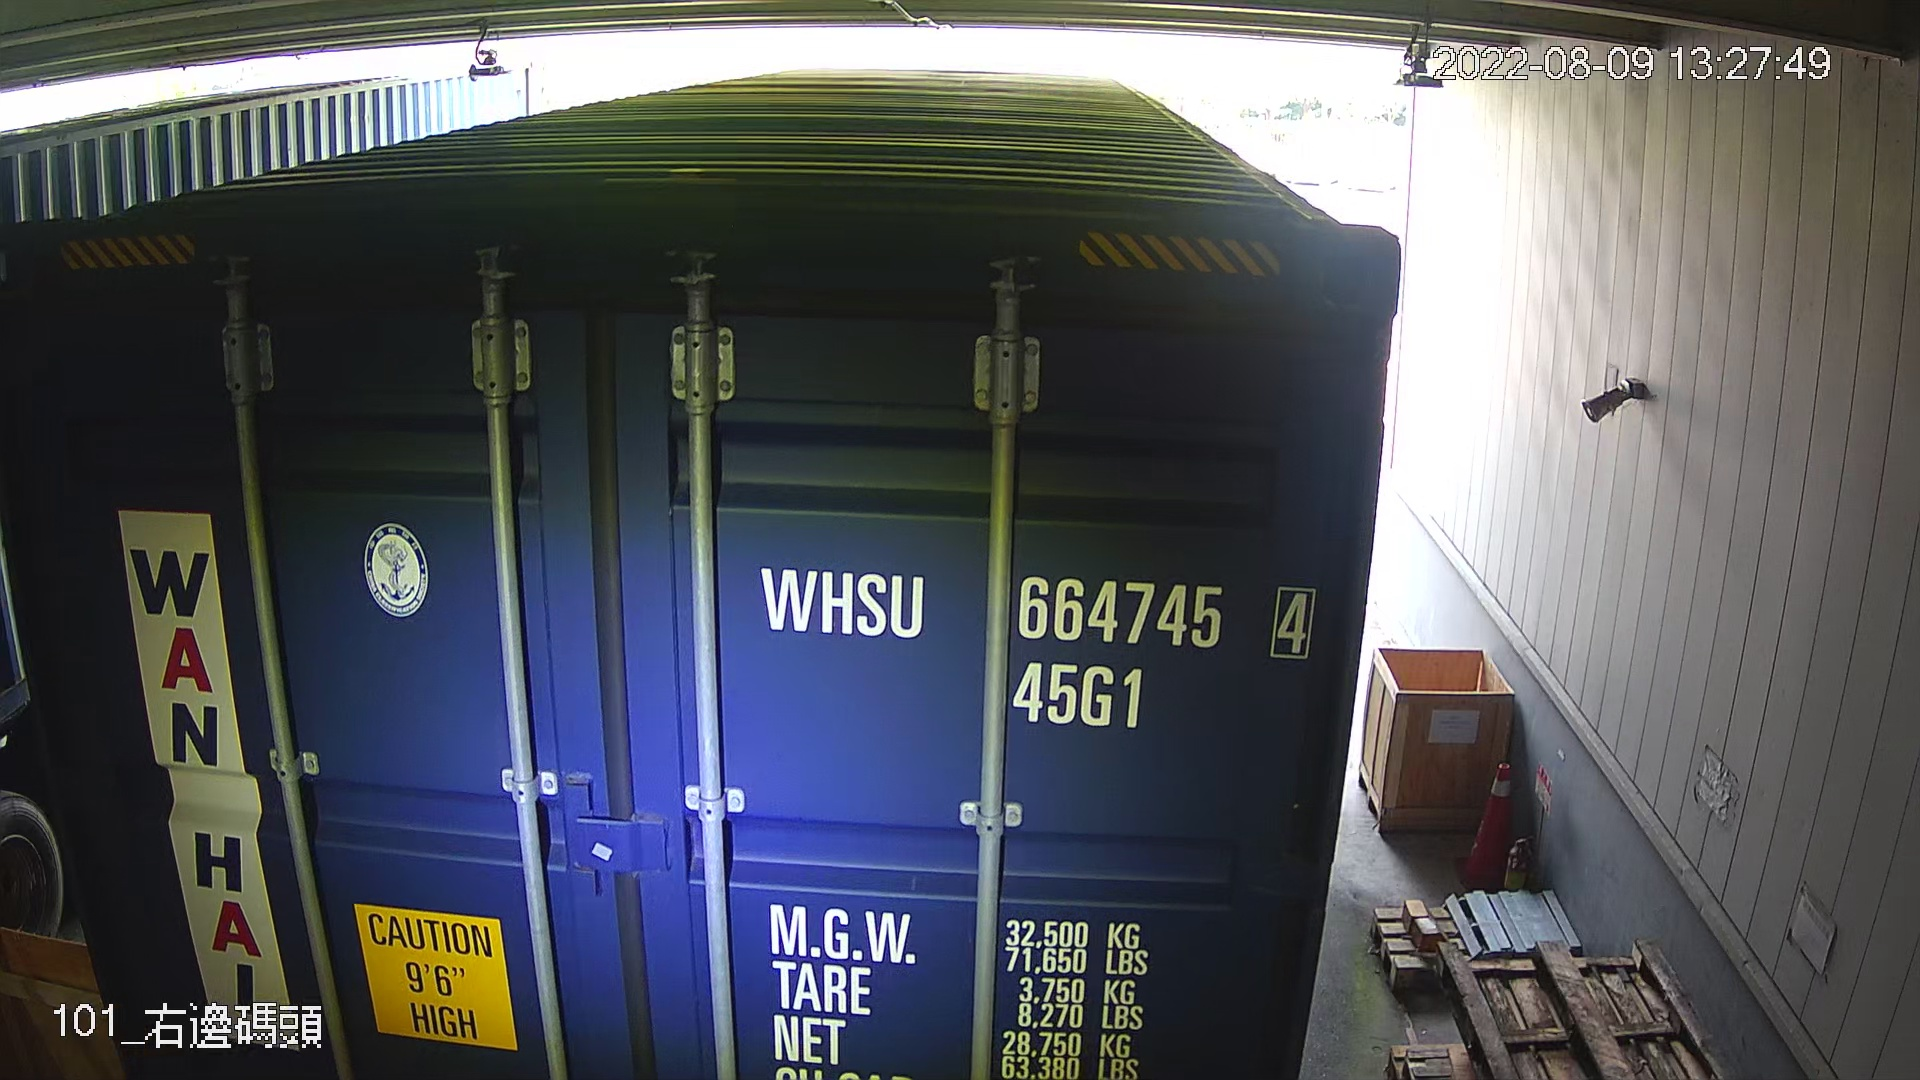container: (742, 545, 1325, 744)
